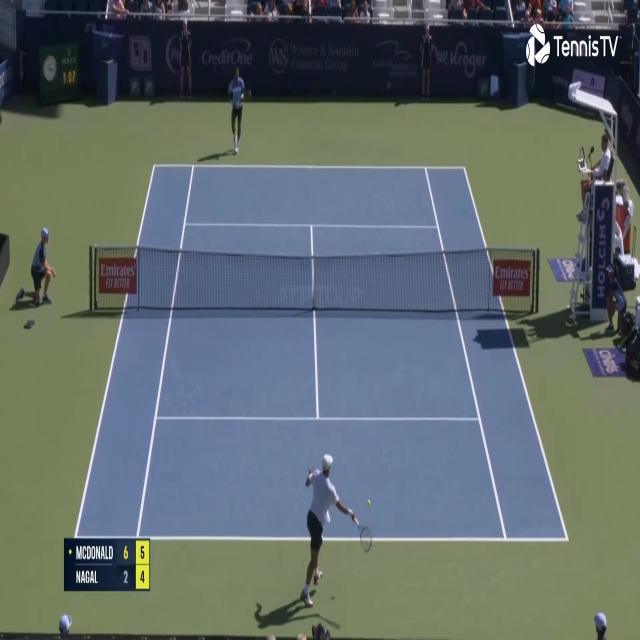tennis-player: (296, 451, 369, 614), (227, 64, 248, 154)
